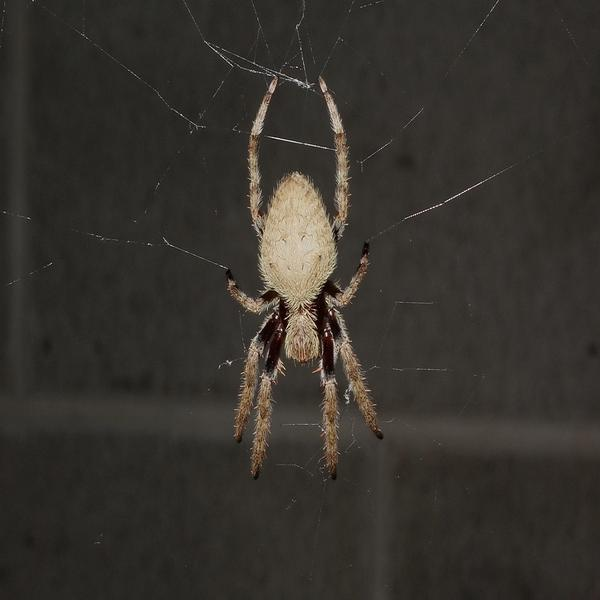Garden Orb Weaver Spider: (230, 78, 381, 469)
